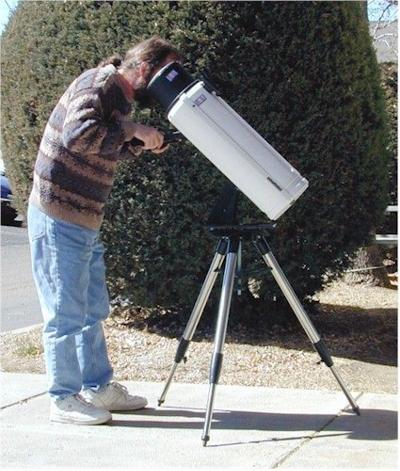person: (27, 39, 179, 430)
